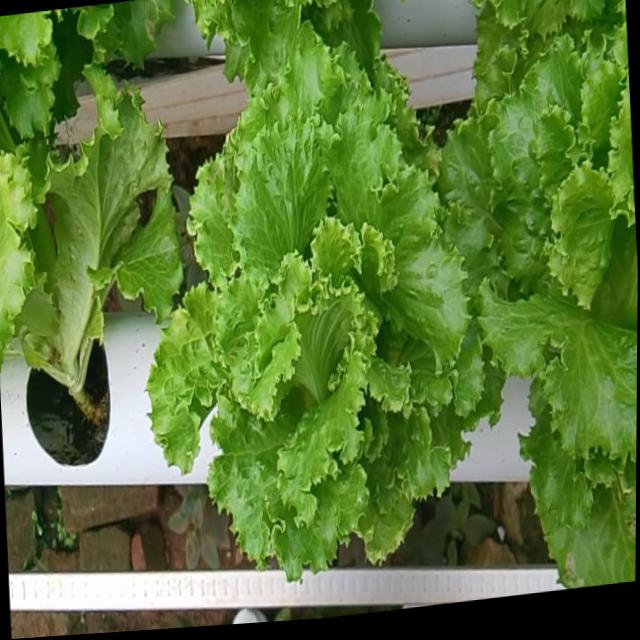Mature: (141, 59, 477, 602), (434, 51, 638, 488)
